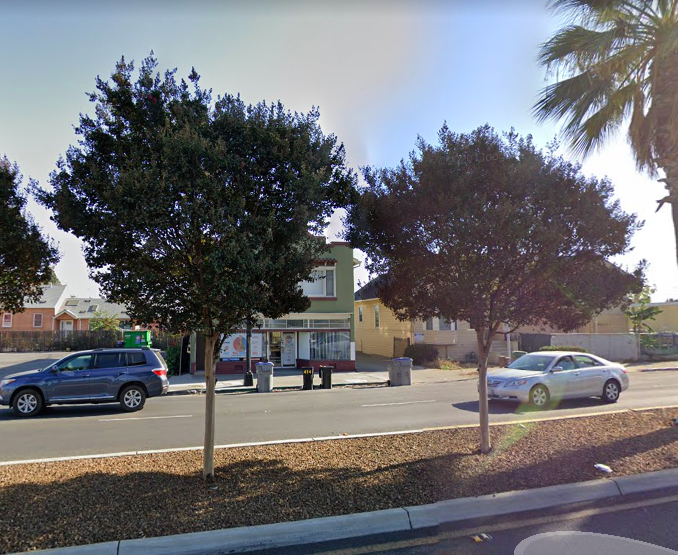tree: (47, 48, 363, 482), (334, 118, 650, 453)
